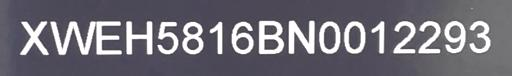letter: (49, 19, 95, 55), (18, 19, 50, 55), (122, 19, 154, 53), (286, 18, 316, 54), (94, 19, 124, 55), (256, 19, 284, 54), (416, 19, 442, 56), (181, 19, 205, 55), (392, 19, 416, 55), (442, 19, 466, 55), (468, 19, 492, 54), (317, 19, 341, 53), (342, 19, 366, 53), (230, 20, 254, 54), (206, 19, 228, 55), (156, 20, 178, 54), (370, 20, 386, 54)
